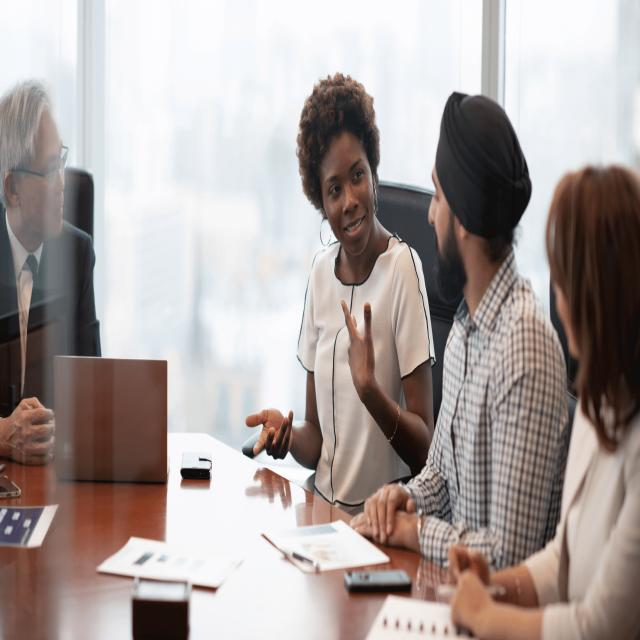adult: (350, 89, 568, 563), (241, 70, 434, 472), (0, 84, 101, 460)
